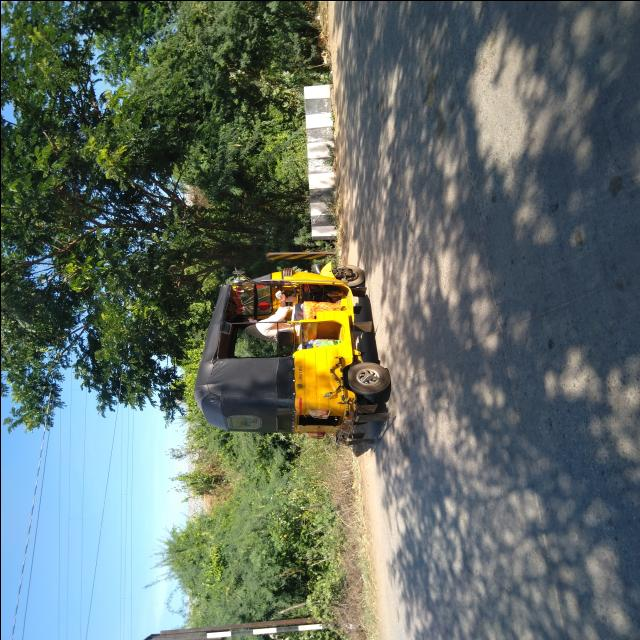Autorickshaw: (196, 234, 397, 479)
